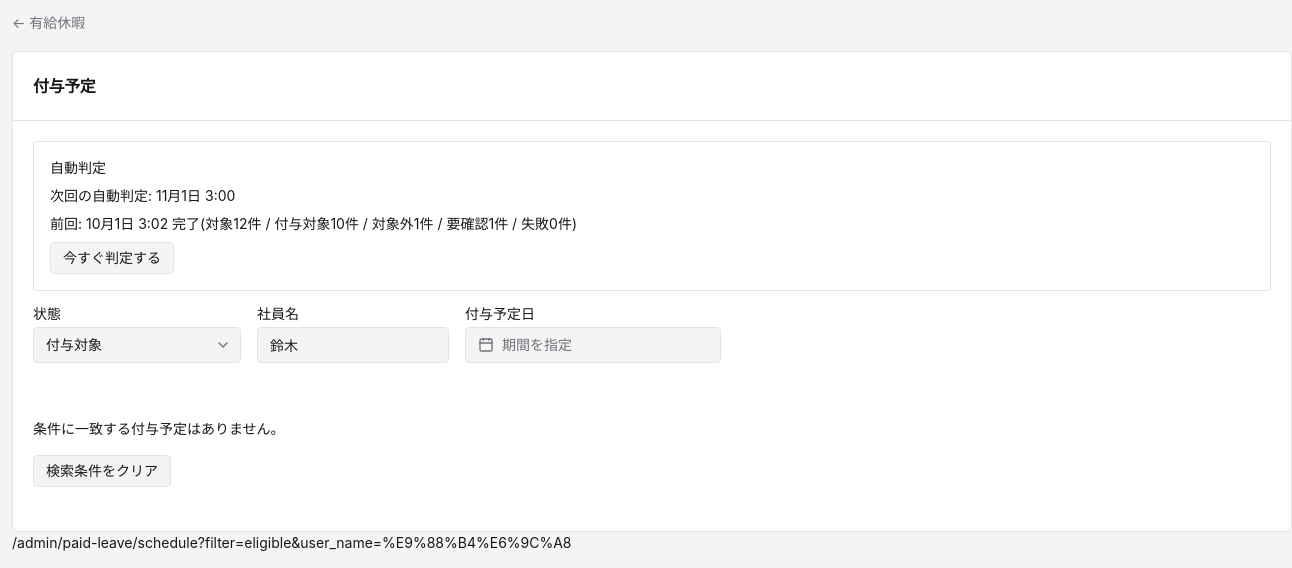
PaidLeaveSchedulePage › shows the filtered empty message with a clear button that removes the URL conditions
Expected: the text "条件に一致する付与予定はありません。" is shown, [33, 420, 285, 437]
Click the button "検索条件をクリア" at (102, 471), box [33, 455, 171, 487]
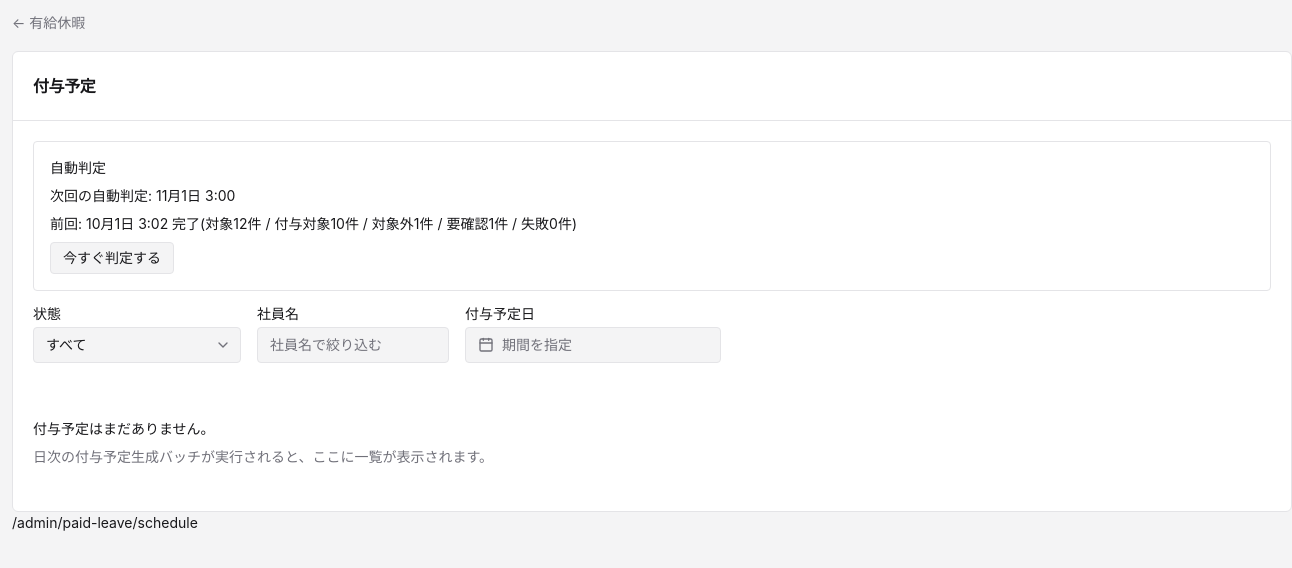
Now the text with test id "location" reads "/admin/paid-leave/schedule", box [12, 514, 198, 531]
